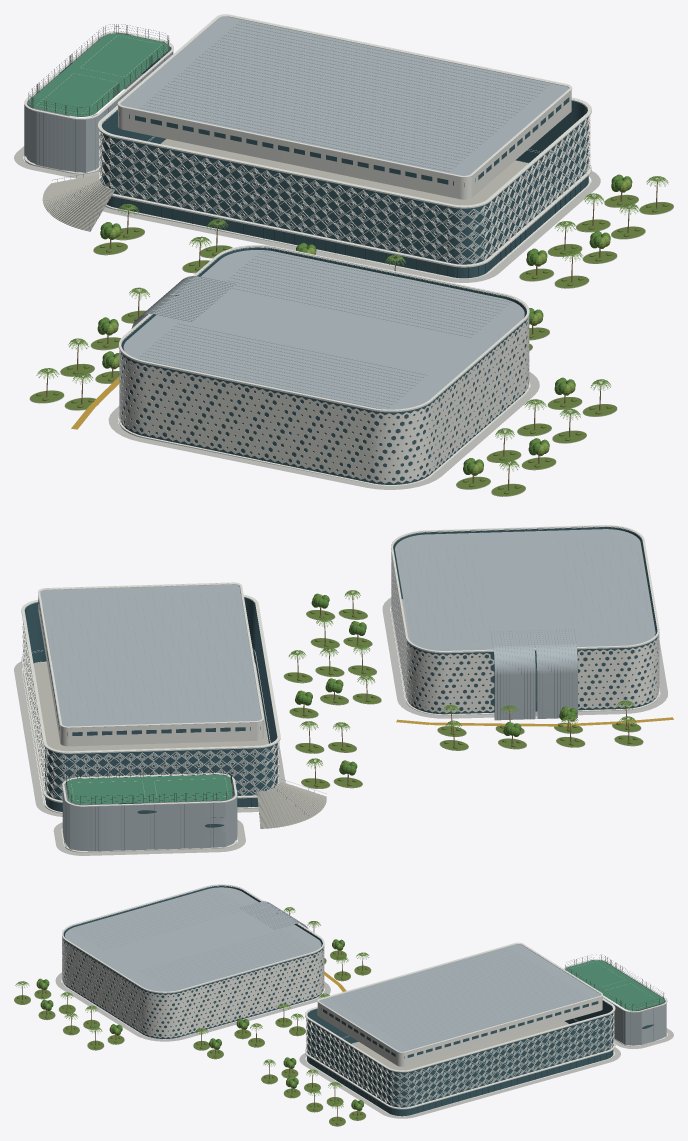
Rendered from sports-lod0.glb.
The picture shows the model from 3 angles, top to bottom: view 1: azimuth 30°, elevation 25°; view 2: azimuth 150°, elevation 25°; view 3: azimuth 270°, elevation 25°; orthographic projection. The views are drawn at different scales.
Parts seen in each view (by area): view 1: gym roof | silver shell, pool roof | silver shell, gym glazing | dark glazing, pool perforated panels | ivory metal, gym shell | ivory metal, gym geometric screen | ivory metal, pool glazing | dark glazing, site lawn islands | lawn, site perimeter paving | pale paving, annex rooftop court | court green, annex cladding | silver shell, site foliage | leaves (+12 smaller); view 2: gym roof | silver shell, pool roof | silver shell, gym glazing | dark glazing, pool perforated panels | ivory metal, gym shell | ivory metal, annex cladding | silver shell, pool central curved wrap | silver shell, gym geometric screen | ivory metal, site perimeter paving | pale paving, site lawn islands | lawn, pool glazing | dark glazing, annex rooftop court | court green (+14 smaller); view 3: pool roof | silver shell, gym roof | silver shell, gym glazing | dark glazing, pool perforated panels | ivory metal, gym shell | ivory metal, gym geometric screen | ivory metal, pool glazing | dark glazing, site lawn islands | lawn, site perimeter paving | pale paving, annex rooftop court | court green, annex cladding | silver shell, site foliage | leaves (+10 smaller).
Boxes of the visible parts, x1=… form: gym roof | silver shell: x1=120, y1=16, x2=568, y2=175; pool roof | silver shell: x1=123, y1=250, x2=524, y2=409; gym glazing | dark glazing: x1=101, y1=97, x2=588, y2=278; pool perforated panels | ivory metal: x1=119, y1=316, x2=529, y2=483; gym shell | ivory metal: x1=97, y1=14, x2=591, y2=278; gym geometric screen | ivory metal: x1=99, y1=115, x2=590, y2=264; pool glazing | dark glazing: x1=121, y1=247, x2=527, y2=484; site lawn islands | lawn: x1=30, y1=195, x2=673, y2=496; site perimeter paving | pale paving: x1=14, y1=146, x2=600, y2=489; annex rooftop court | court green: x1=29, y1=33, x2=169, y2=116; annex cladding | silver shell: x1=24, y1=32, x2=173, y2=172; site foliage | leaves: x1=36, y1=174, x2=668, y2=474; gym roof | silver shell: x1=40, y1=584, x2=261, y2=726; pool roof | silver shell: x1=395, y1=529, x2=655, y2=650; gym glazing | dark glazing: x1=24, y1=591, x2=277, y2=811; pool perforated panels | ivory metal: x1=391, y1=552, x2=659, y2=713; gym shell | ivory metal: x1=21, y1=582, x2=280, y2=813; annex cladding | silver shell: x1=62, y1=774, x2=236, y2=851; pool central curved wrap | silver shell: x1=491, y1=628, x2=577, y2=720; gym geometric screen | ivory metal: x1=22, y1=622, x2=279, y2=799; site perimeter paving | pale paving: x1=14, y1=597, x2=667, y2=855; site lawn islands | lawn: x1=284, y1=609, x2=643, y2=788; pool glazing | dark glazing: x1=393, y1=526, x2=657, y2=714; annex rooftop court | court green: x1=66, y1=774, x2=232, y2=804; pool roof | silver shell: x1=65, y1=887, x2=321, y2=991; gym roof | silver shell: x1=319, y1=944, x2=600, y2=1051; gym glazing | dark glazing: x1=307, y1=1000, x2=613, y2=1116; pool perforated panels | ivory metal: x1=62, y1=937, x2=324, y2=1038; gym shell | ivory metal: x1=305, y1=942, x2=615, y2=1116; gym geometric screen | ivory metal: x1=306, y1=1012, x2=614, y2=1107; pool glazing | dark glazing: x1=63, y1=885, x2=323, y2=1038; site lawn islands | lawn: x1=14, y1=950, x2=370, y2=1126; site perimeter paving | pale paving: x1=55, y1=972, x2=673, y2=1118; annex rooftop court | court green: x1=566, y1=960, x2=664, y2=1010; annex cladding | silver shell: x1=565, y1=960, x2=666, y2=1045; site foliage | leaves: x1=16, y1=907, x2=368, y2=1110.
Bounding box in the file's own units: 221 × 29.98 × 297.
